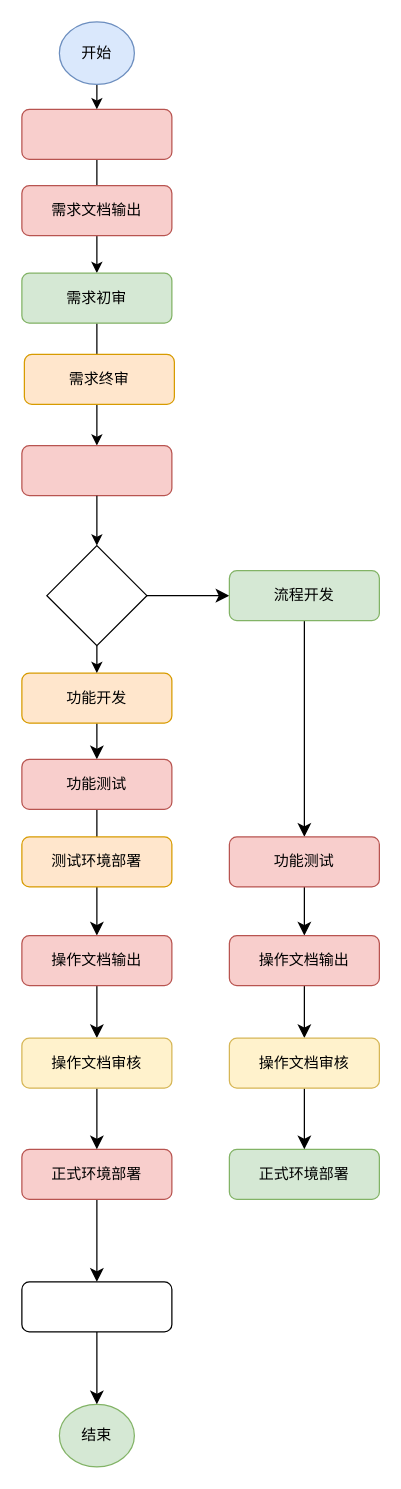
Some shapes in this 401 by 1489 pixel diagram are drawn without their labels. The shapes that lost their labels are listed below. From the top down, each one's centre as x and y in pixels, then its label:
At pixel 96 133: "需求调研".
At pixel 96 470: "组织需求单位确认".
At pixel 96 595: "开发类型".
At pixel 96 1306: "操作文档发布".
